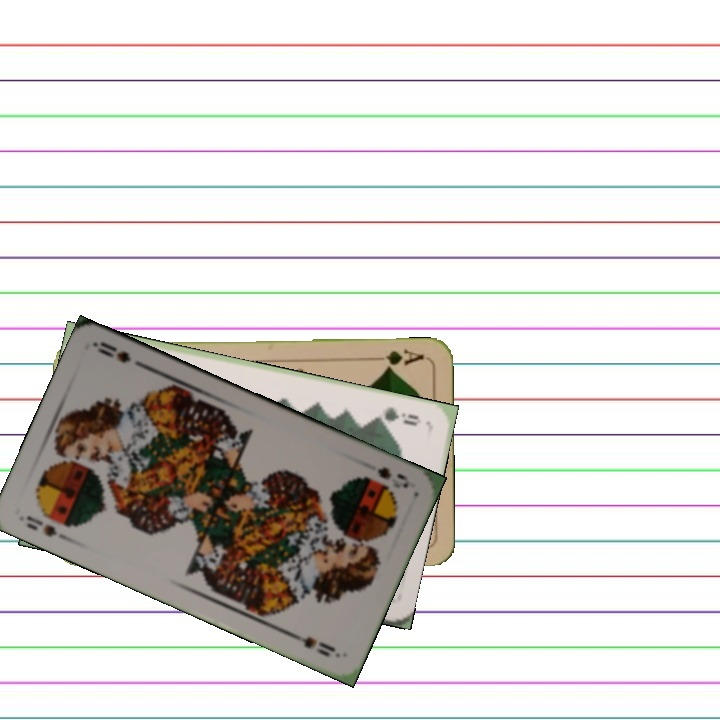G9: (368, 402, 421, 429)
GA: (368, 344, 426, 372)
SO: (21, 511, 73, 544), (373, 462, 412, 491)
